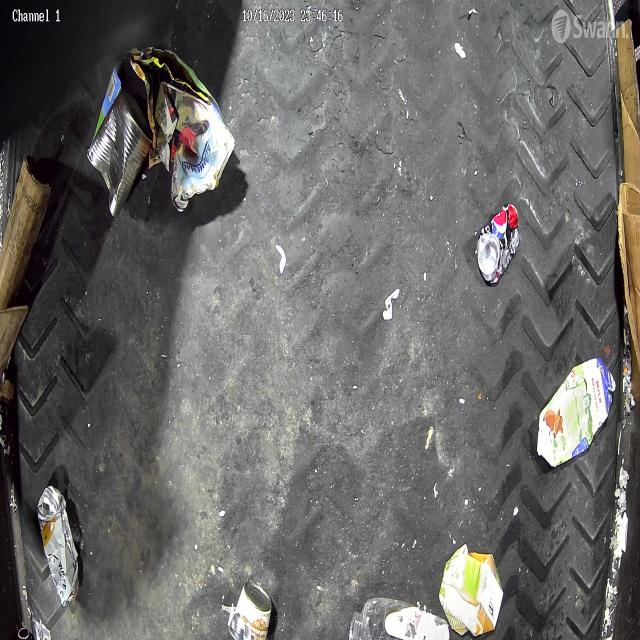can: (86, 81, 150, 212), (37, 484, 79, 608), (477, 204, 520, 286), (228, 583, 272, 640)
non_white_jug: (538, 357, 616, 467), (438, 543, 504, 637)
plastic_bottle: (349, 597, 450, 640)
